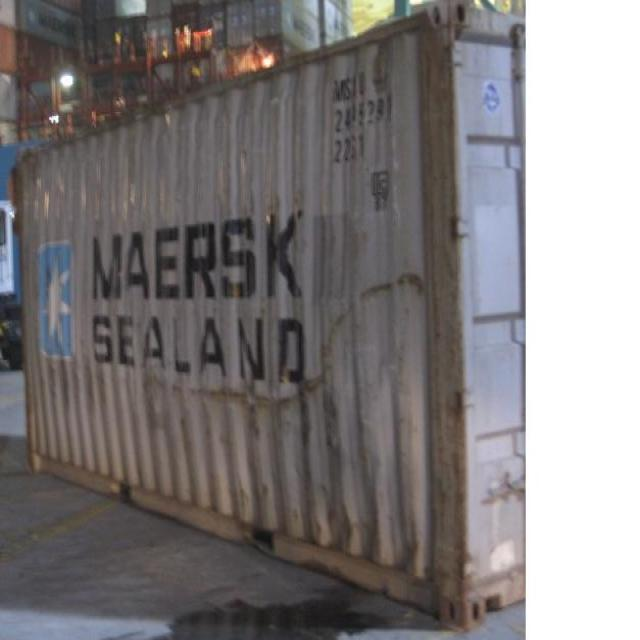dent: (283, 492, 432, 590)
